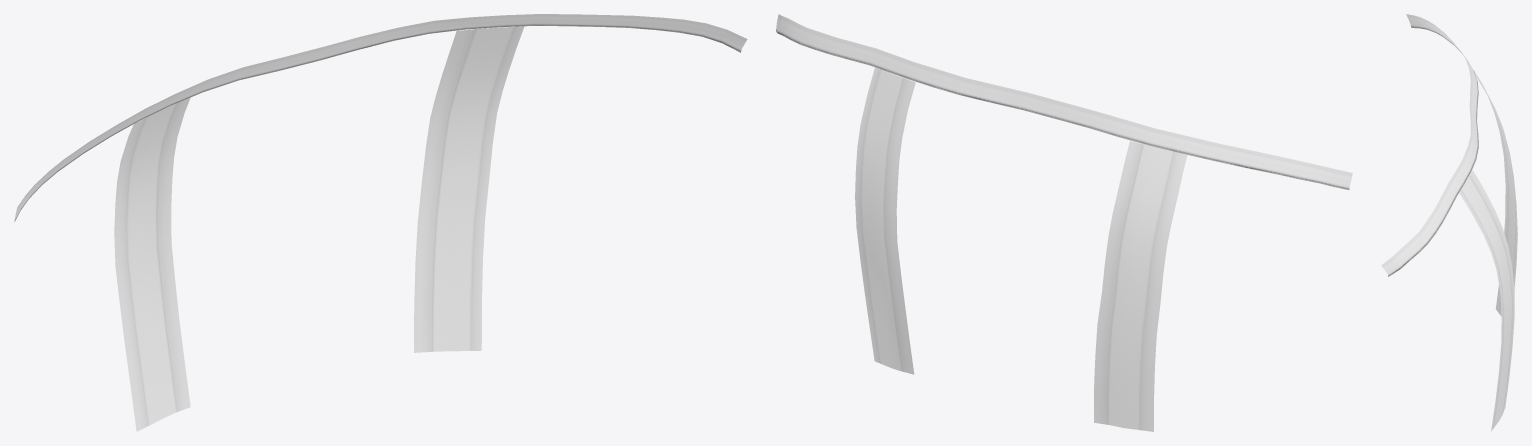
The model's file is back Pleats.glb.
3 renders of one model, left to right at view 1: azimuth 30°, elevation 25°; view 2: azimuth 150°, elevation 25°; view 3: azimuth 270°, elevation 25°, orthographic. The views are drawn at different scales.
Parts seen in each view (by area): view 1: Pleat2, Pleat1; view 2: Pleat2, Pleat1; view 3: Pleat2, Pleat1.
Boxes of the visible parts, x1=… form: Pleat2: x1=17, y1=23, x2=743, y2=431; Pleat1: x1=14, y1=14, x2=747, y2=222; Pleat2: x1=776, y1=23, x2=1351, y2=431; Pleat1: x1=776, y1=14, x2=1352, y2=186; Pleat2: x1=1385, y1=20, x2=1517, y2=431; Pleat1: x1=1381, y1=14, x2=1478, y2=274.
Bounding box in the file's own units: 0.578 × 0.2767 × 0.1304.
1 material, 1 textured.
